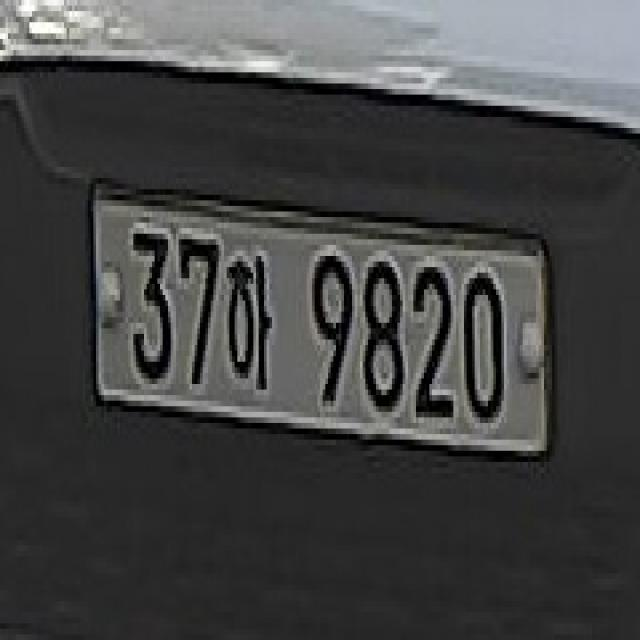0: (458, 267, 506, 429)
2: (408, 256, 456, 429)
3: (128, 217, 176, 384)
7: (176, 228, 221, 390)
8: (360, 256, 405, 417)
9: (304, 245, 352, 417)
ha: (221, 245, 275, 395)
license_plate: (91, 183, 549, 468)
